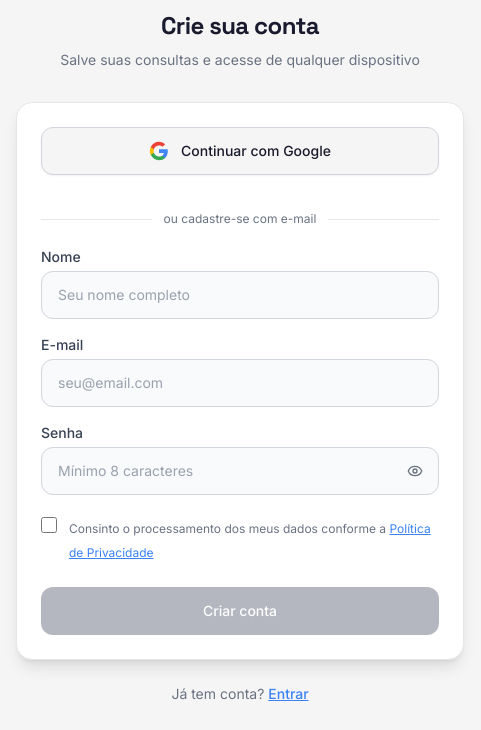
Test: Registration Page › OAuth flow (AC #2, #8, Task 6.4) › shows Portuguese error message when OAuth fails
Click the button "Continuar com Google": (240,151) x1=41 y1=127 x2=439 y2=175
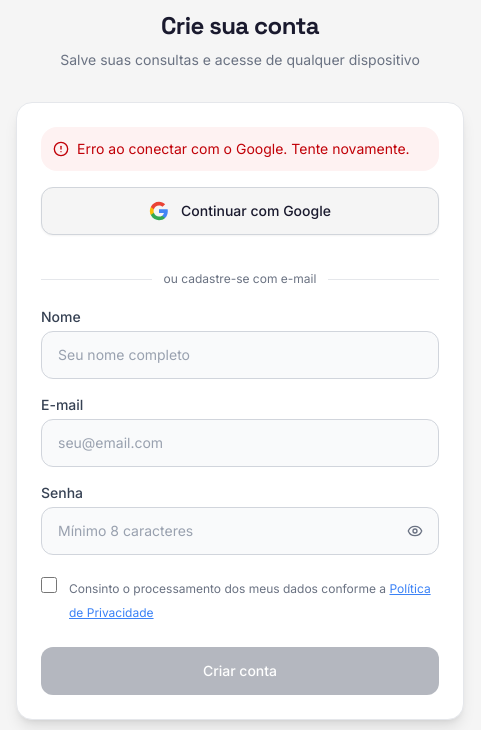
Result: the message "Erro ao conectar com o Google. Tente novamente." is shown at x1=41 y1=127 x2=439 y2=171
